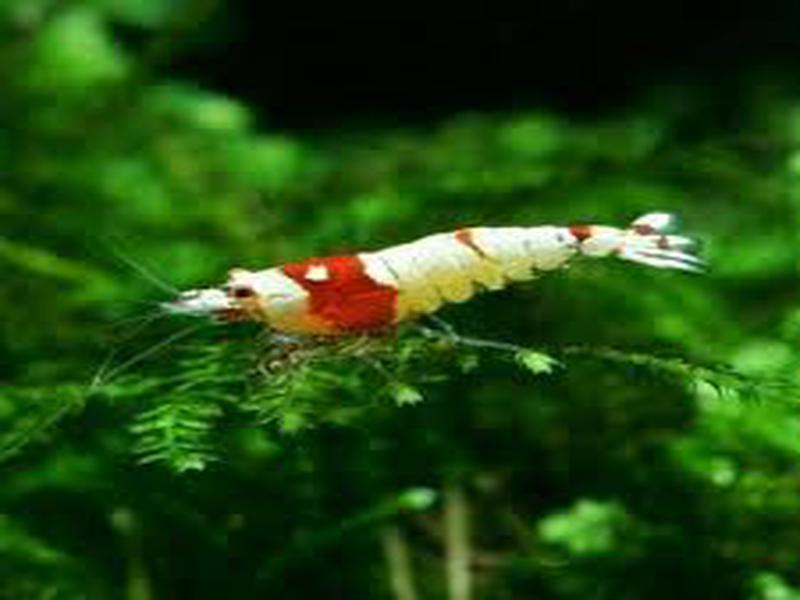shrimp: (159, 213, 712, 337)
